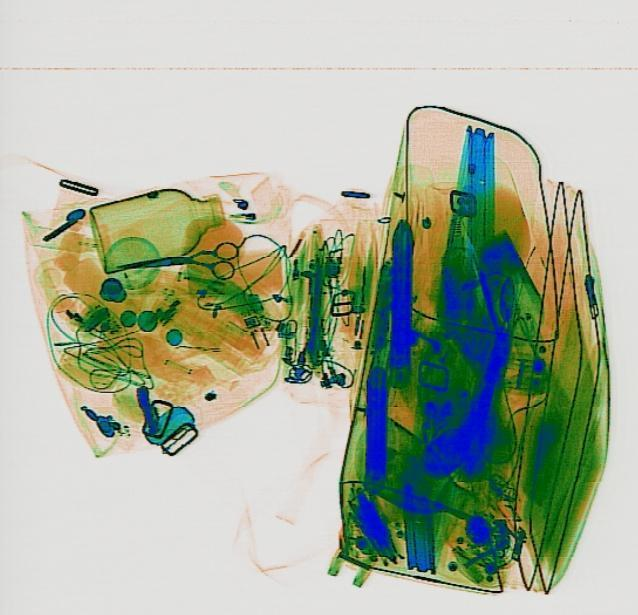Scissors: (106, 239, 241, 288)
